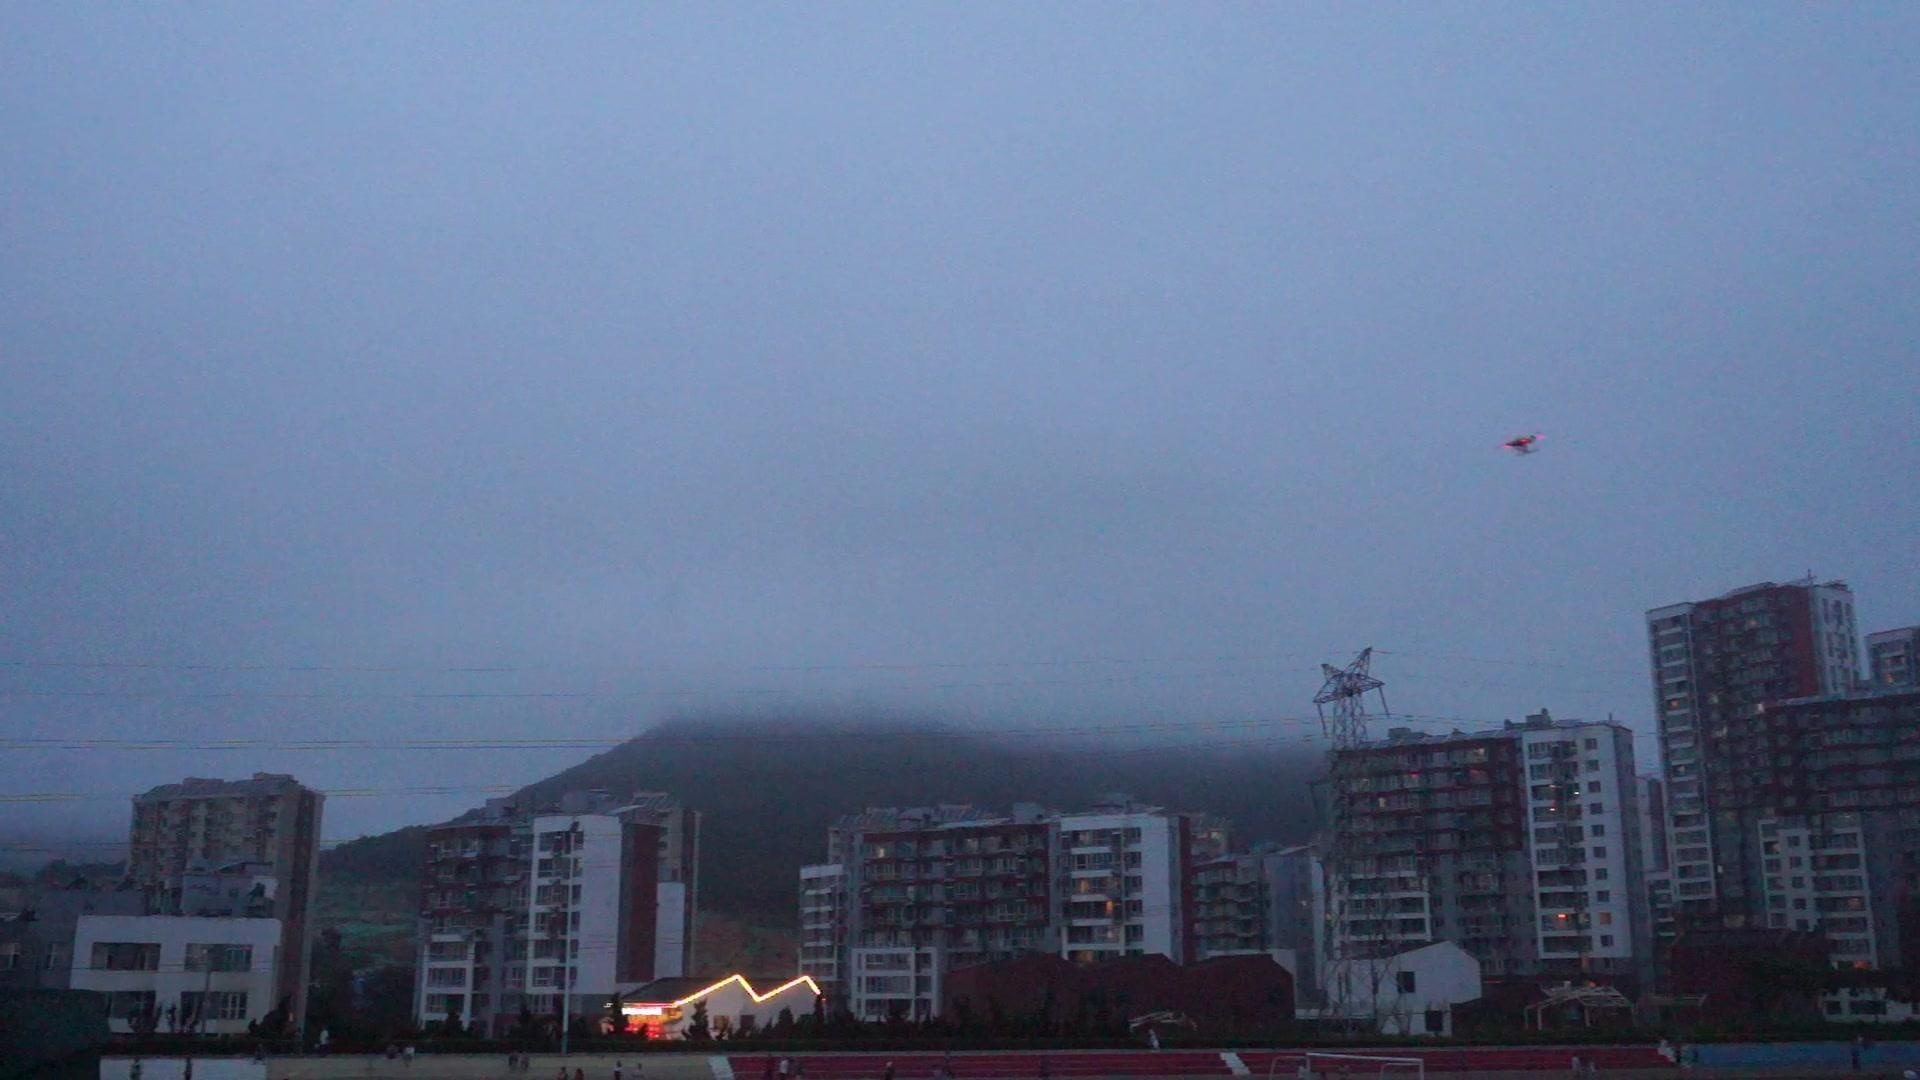UAV: (1499, 434, 1549, 458)
